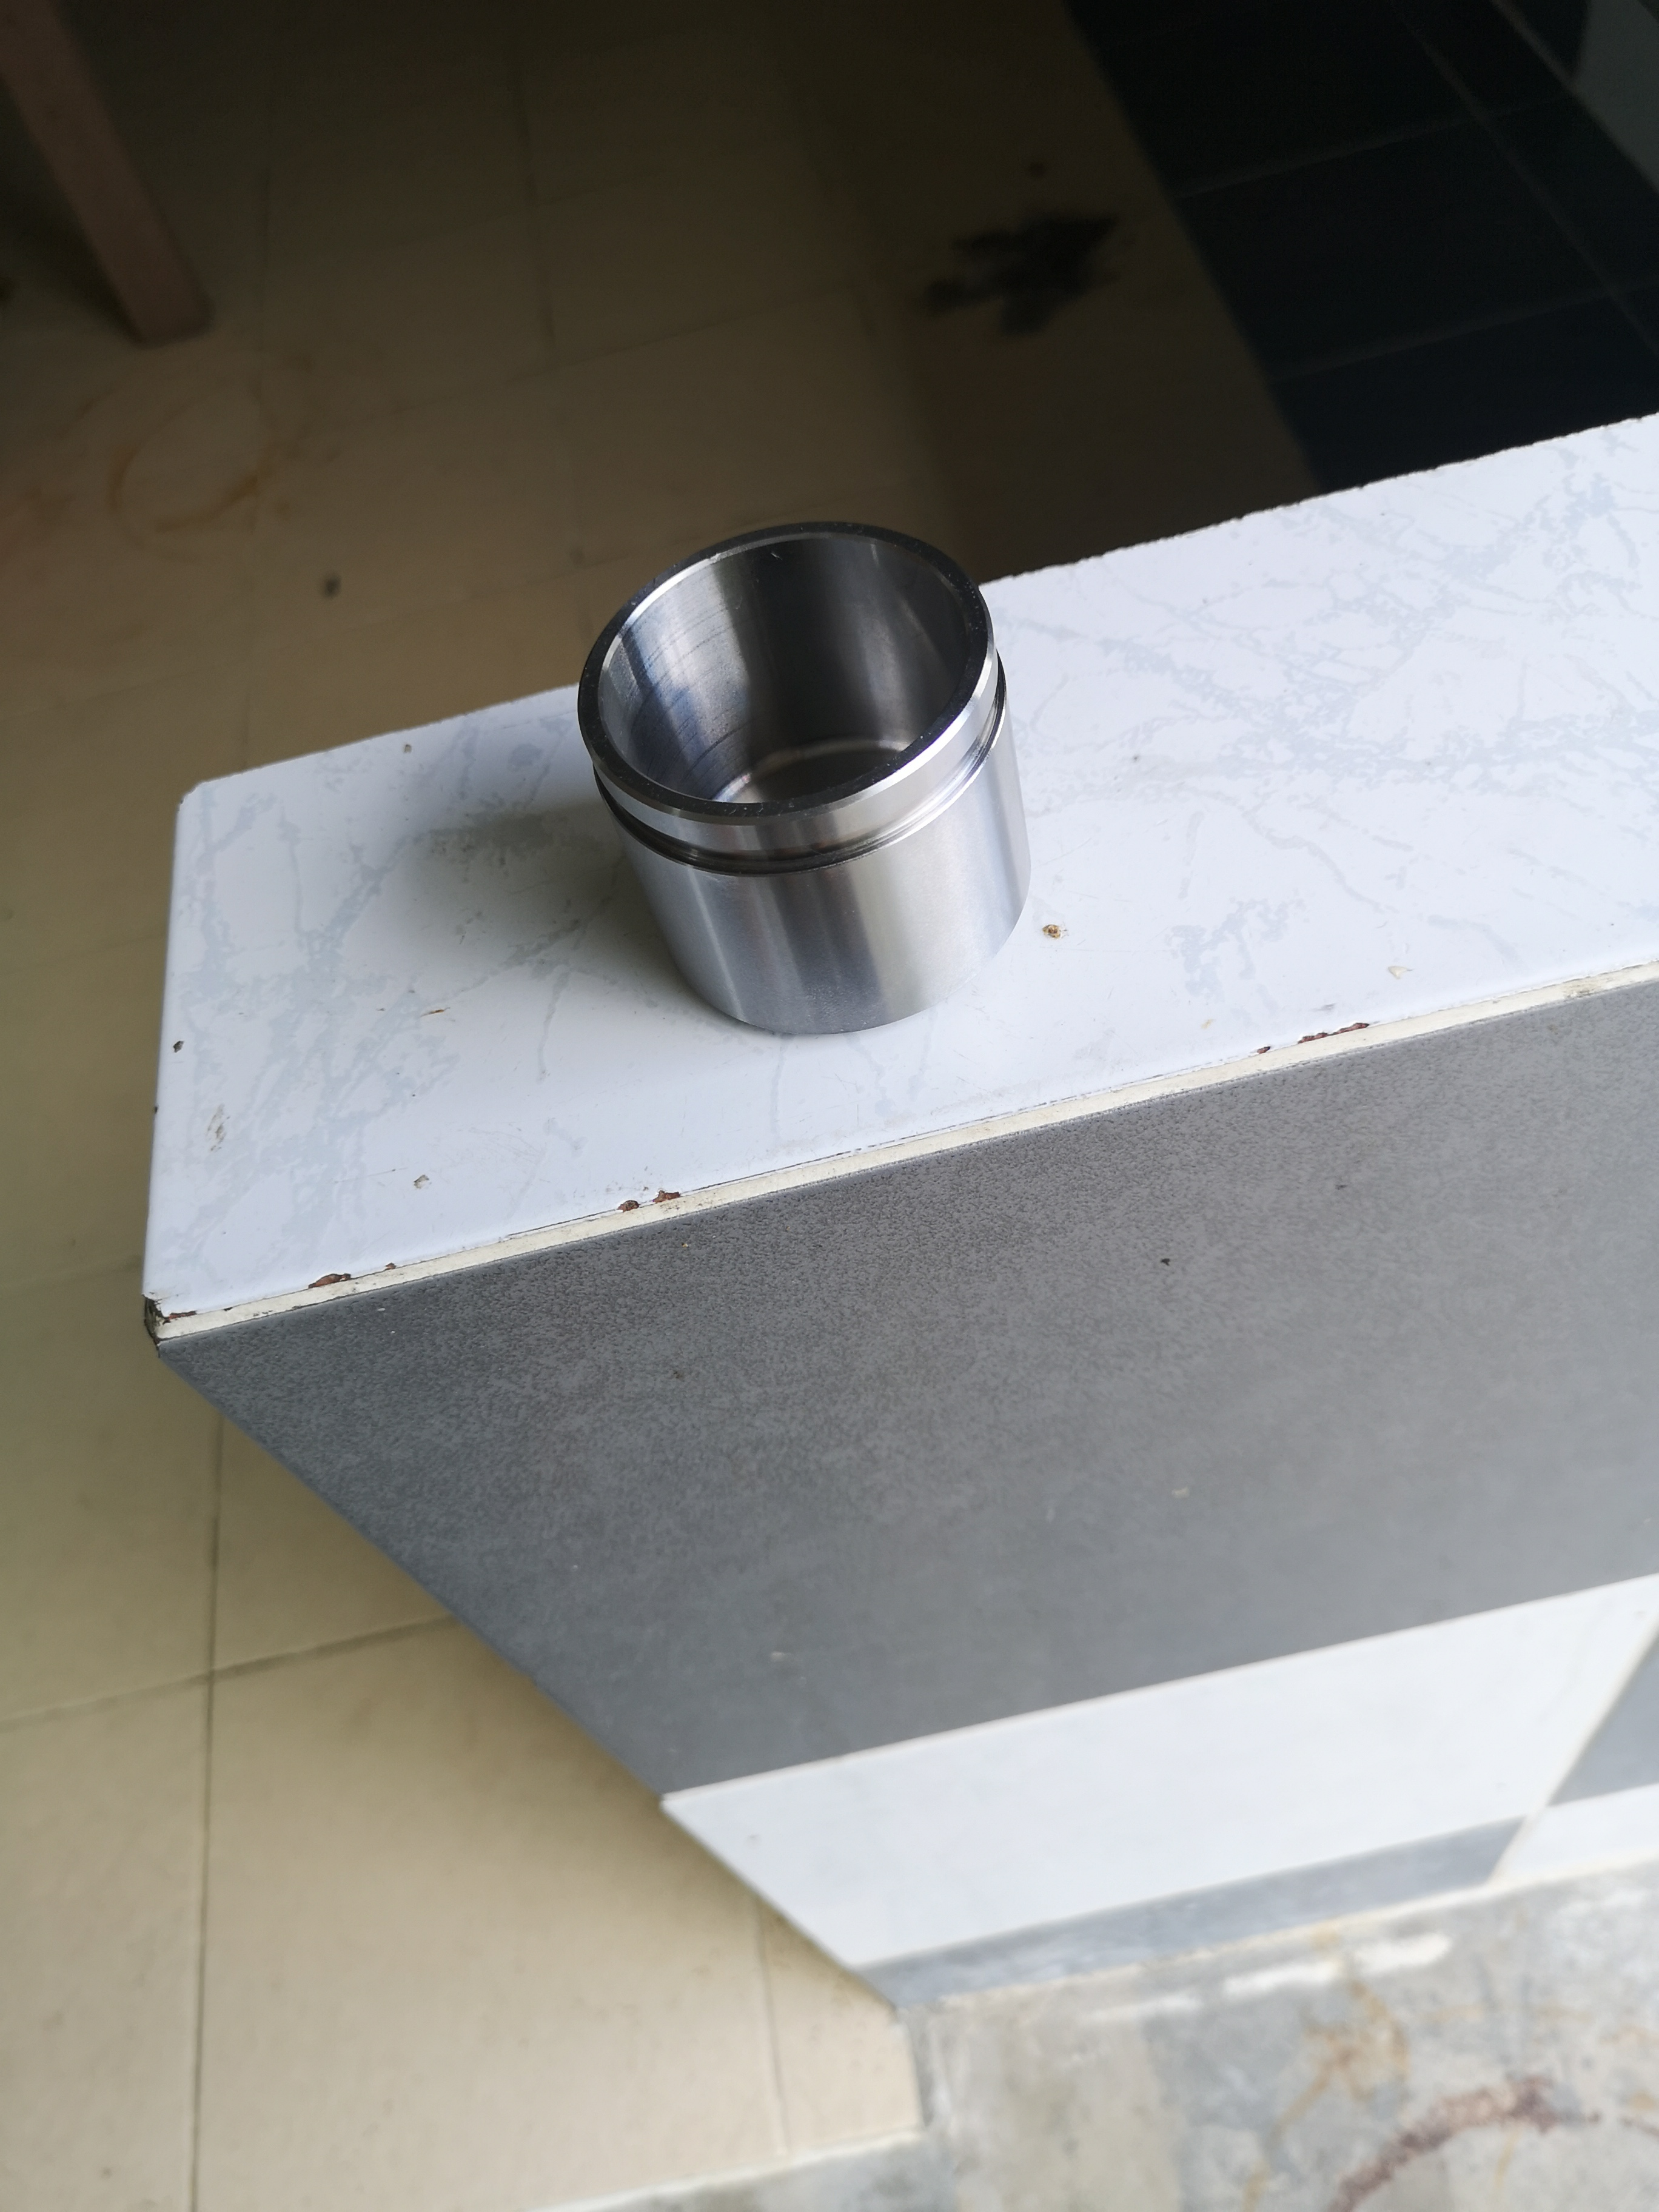ลูกสูบดิสเบรค: (556, 505, 1060, 1050)
